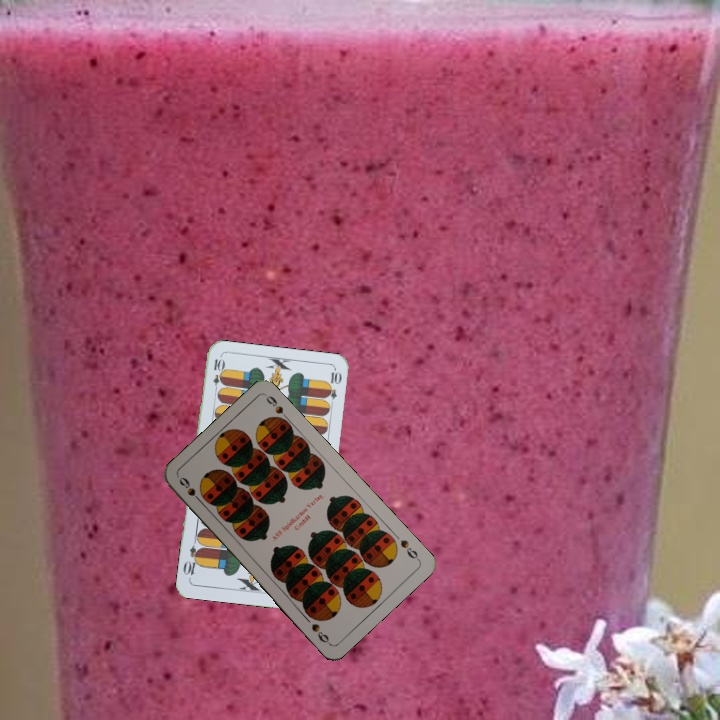E10: (209, 355, 225, 395)
S9: (175, 473, 206, 507), (396, 536, 422, 563)
